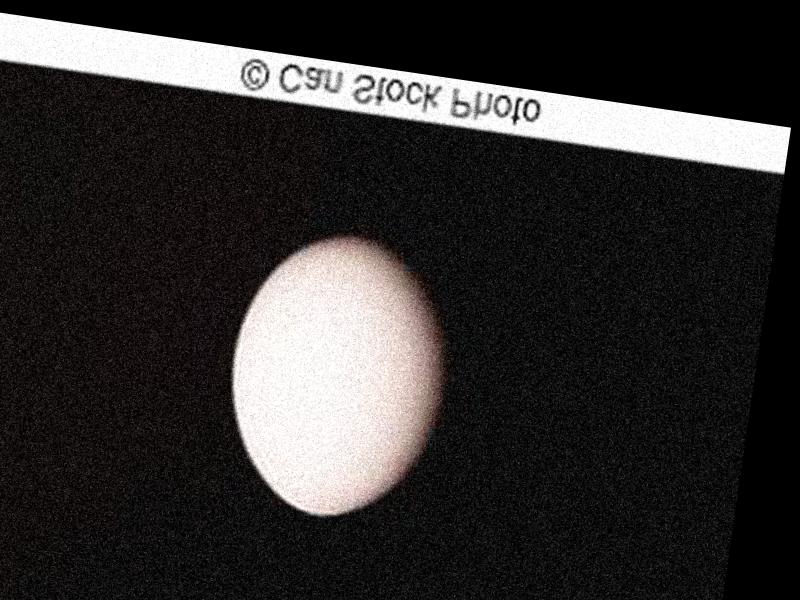Eggs: (213, 217, 461, 530)
